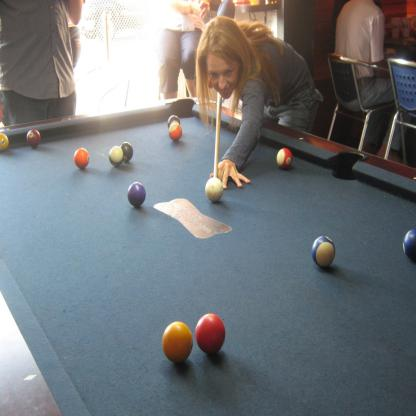Ball: (197, 314, 224, 356), (163, 322, 192, 361), (313, 237, 335, 269), (128, 180, 146, 209), (207, 178, 224, 204), (404, 230, 416, 262), (109, 146, 124, 168), (277, 148, 292, 170), (74, 147, 89, 167), (120, 142, 135, 162), (168, 124, 182, 141), (27, 131, 40, 147), (0, 132, 9, 154), (167, 116, 180, 126)
